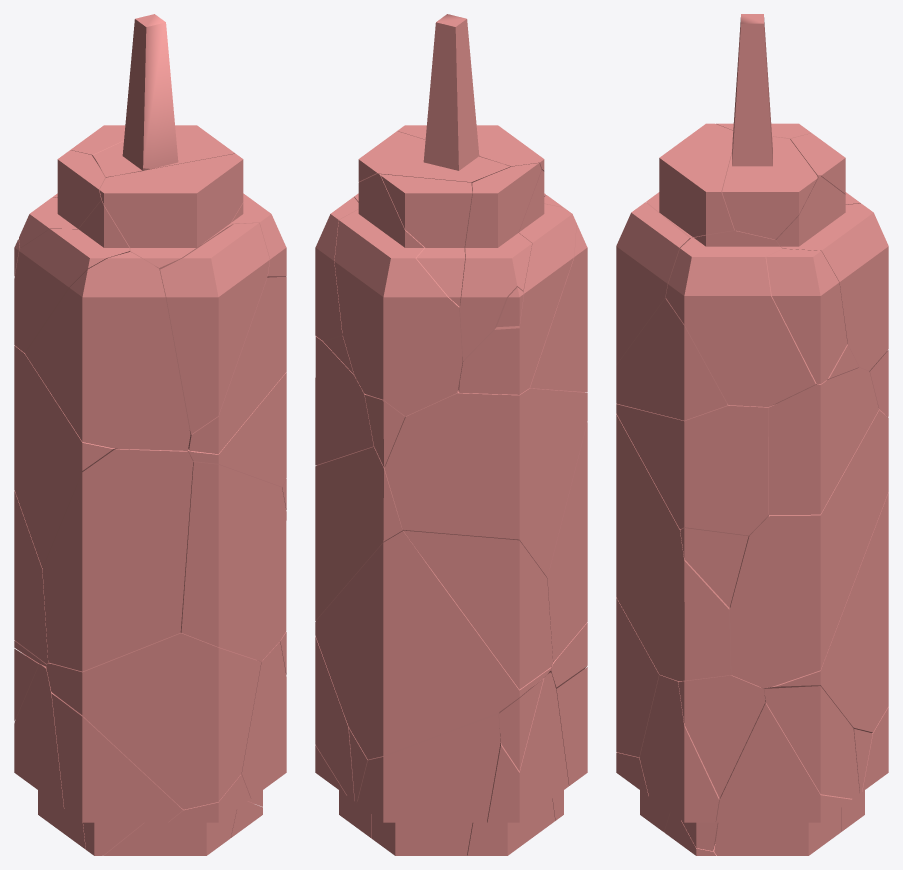
The model's file is ketchup_broken.gltf.
3 views of the same model, side by side, from view 1: azimuth 30°, elevation 25°; view 2: azimuth 150°, elevation 25°; view 3: azimuth 270°, elevation 25° (orthographic).
Visible parts, largest first — view 1: bottleKetchup_cell.043, bottleKetchup_cell.049, bottleKetchup_cell.007, bottleKetchup_cell.050, bottleKetchup_cell.051, bottleKetchup_cell.019, bottleKetchup_cell.044, bottleKetchup_cell.042, bottleKetchup_cell.027, bottleKetchup_cell.041, bottleKetchup_cell.031, bottleKetchup_cell.005 (+9 smaller); view 2: bottleKetchup_cell.046, bottleKetchup_cell.042, bottleKetchup_cell.016, bottleKetchup_cell.047, bottleKetchup_cell.045, bottleKetchup_cell.041, bottleKetchup_cell.027, bottleKetchup_cell.011, bottleKetchup_cell.035, bottleKetchup_cell.005, bottleKetchup_cell.048, bottleKetchup_cell.043 (+12 smaller); view 3: bottleKetchup_cell.035, bottleKetchup_cell.010, bottleKetchup_cell.050, bottleKetchup_cell.004, bottleKetchup_cell.034, bottleKetchup_cell.040, bottleKetchup_cell.027, bottleKetchup_cell.016, bottleKetchup_cell.046, bottleKetchup_cell.031, bottleKetchup_cell.022, bottleKetchup_cell.026 (+13 smaller).
Boxes of the visible parts, bbox=[...] form: bottleKetchup_cell.043: bbox=[42, 449, 192, 671]; bottleKetchup_cell.049: bbox=[46, 633, 261, 809]; bottleKetchup_cell.007: bbox=[25, 251, 190, 450]; bottleKetchup_cell.050: bbox=[180, 462, 286, 661]; bottleKetchup_cell.051: bbox=[155, 223, 269, 434]; bottleKetchup_cell.019: bbox=[99, 153, 243, 267]; bottleKetchup_cell.044: bbox=[51, 694, 182, 855]; bottleKetchup_cell.042: bbox=[14, 345, 117, 568]; bottleKetchup_cell.027: bbox=[93, 14, 234, 177]; bottleKetchup_cell.041: bbox=[14, 200, 135, 352]; bottleKetchup_cell.031: bbox=[188, 277, 286, 454]; bottleKetchup_cell.005: bbox=[14, 663, 85, 849]; bottleKetchup_cell.046: bbox=[315, 531, 551, 759]; bottleKetchup_cell.042: bbox=[384, 388, 587, 577]; bottleKetchup_cell.016: bbox=[334, 173, 462, 416]; bottleKetchup_cell.047: bbox=[357, 712, 500, 855]; bottleKetchup_cell.045: bbox=[403, 530, 552, 689]; bottleKetchup_cell.041: bbox=[458, 170, 576, 394]; bottleKetchup_cell.027: bbox=[358, 14, 510, 184]; bottleKetchup_cell.011: bbox=[460, 163, 541, 360]; bottleKetchup_cell.035: bbox=[315, 446, 403, 620]; bottleKetchup_cell.005: bbox=[467, 672, 568, 855]; bottleKetchup_cell.048: bbox=[381, 174, 472, 306]; bottleKetchup_cell.043: bbox=[547, 422, 587, 662]; bottleKetchup_cell.035: bbox=[730, 408, 888, 688]; bottleKetchup_cell.010: bbox=[665, 230, 858, 406]; bottleKetchup_cell.050: bbox=[616, 414, 731, 680]; bottleKetchup_cell.004: bbox=[616, 404, 774, 535]; bottleKetchup_cell.034: bbox=[714, 695, 851, 855]; bottleKetchup_cell.040: bbox=[768, 367, 878, 515]; bottleKetchup_cell.027: bbox=[722, 14, 817, 239]; bottleKetchup_cell.016: bbox=[775, 176, 888, 371]; bottleKetchup_cell.046: bbox=[759, 492, 888, 732]; bottleKetchup_cell.031: bbox=[616, 298, 727, 420]; bottleKetchup_cell.022: bbox=[639, 675, 719, 851]; bottleKetchup_cell.026: bbox=[766, 249, 847, 384].
Bounding box in the file's own units: 0.7926 × 2.95 × 0.9152.
